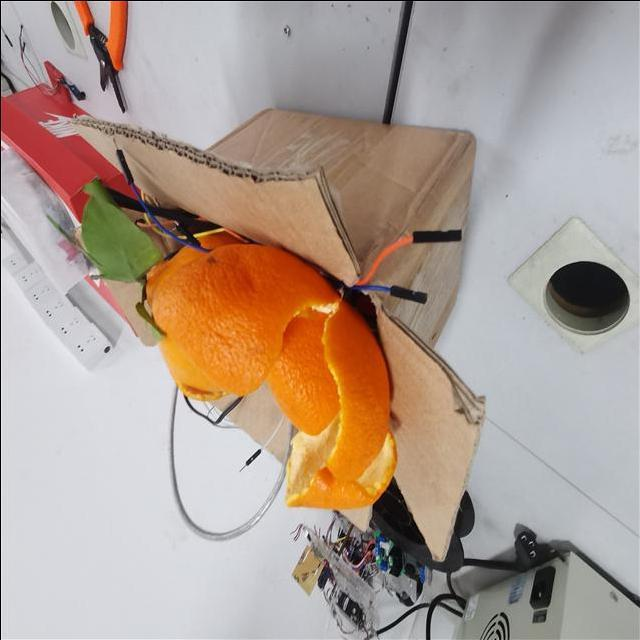orange peel: (149, 244, 397, 510)
